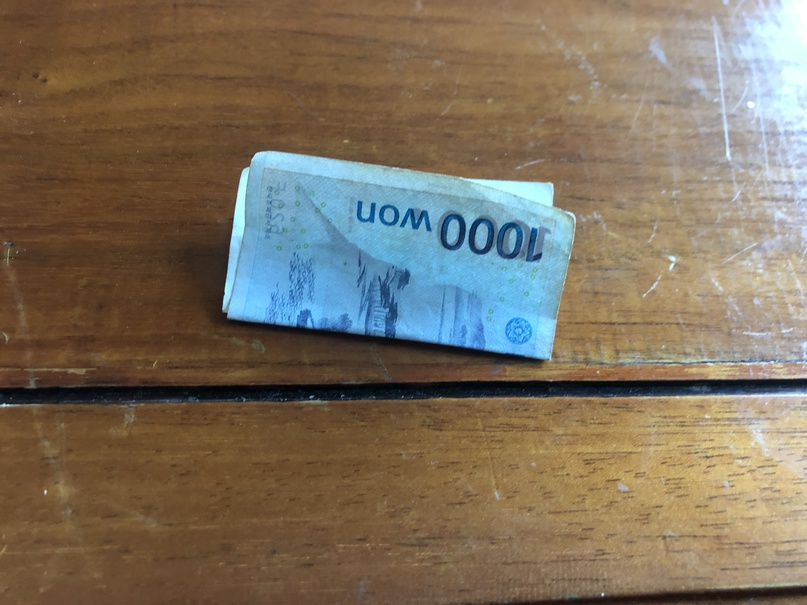1000won: (221, 150, 576, 361)
